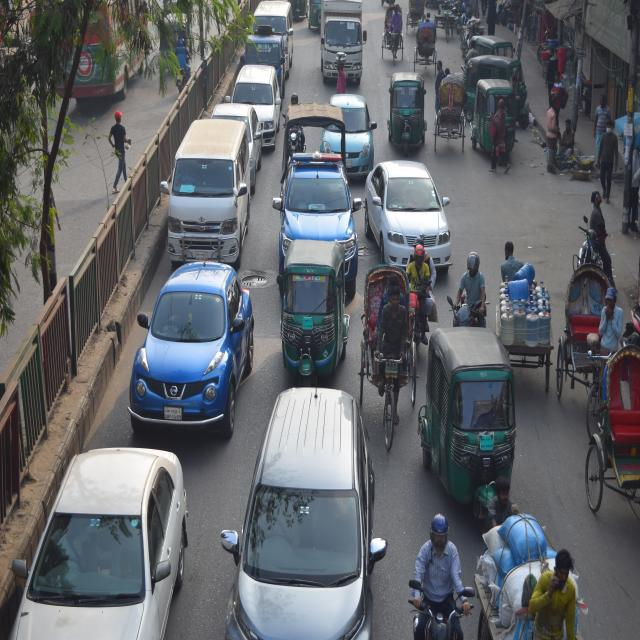car: (214, 381, 380, 640), (0, 436, 188, 640), (125, 262, 258, 436), (364, 154, 456, 276), (323, 87, 377, 163), (234, 56, 282, 108), (204, 102, 264, 133)
microbus: (166, 121, 250, 265), (252, 0, 292, 29)
motorbike: (399, 558, 471, 640), (441, 272, 494, 348), (574, 216, 606, 278)
pickup-van: (273, 104, 357, 265), (316, 2, 365, 86), (244, 30, 284, 82)
